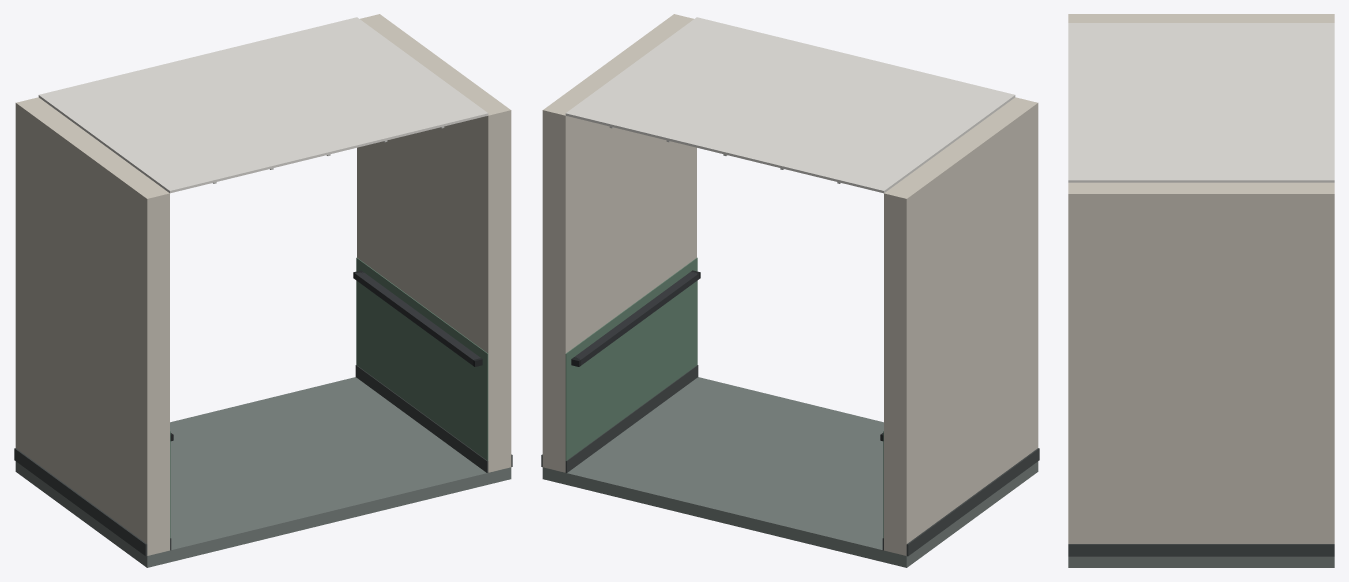
File: MOD_Corridor_Straight_2m_Light.glb
3 renders of one model, left to right at view 1: azimuth 30°, elevation 25°; view 2: azimuth 150°, elevation 25°; view 3: azimuth 270°, elevation 25°, orthographic.
Visible parts, largest first — view 1: MOD_Corridor_Straight_2m_Light_Mesh; view 2: MOD_Corridor_Straight_2m_Light_Mesh; view 3: MOD_Corridor_Straight_2m_Light_Mesh.
Part boxes in pixels (left/top/right/bottom): MOD_Corridor_Straight_2m_Light_Mesh: left=14, top=14, right=512, bottom=567; MOD_Corridor_Straight_2m_Light_Mesh: left=541, top=14, right=1039, bottom=567; MOD_Corridor_Straight_2m_Light_Mesh: left=1068, top=14, right=1334, bottom=567.
Size of what is drawn, in the model's own units: 3.22 by 3.12 by 2.
